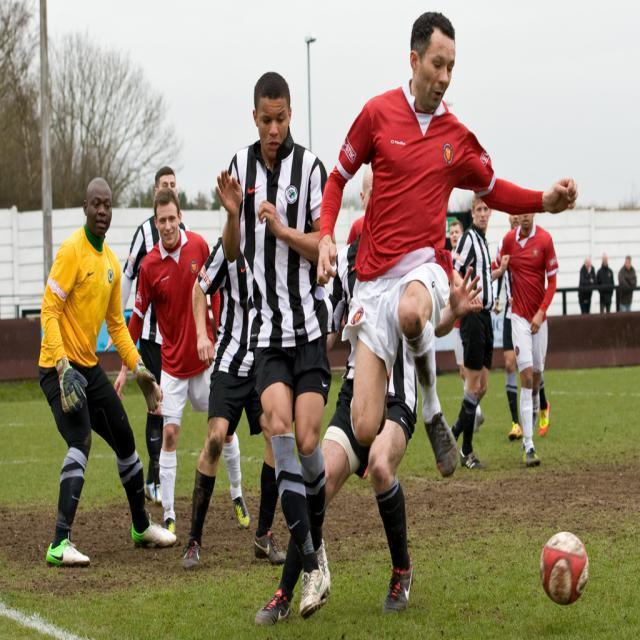football: (532, 518, 594, 615)
